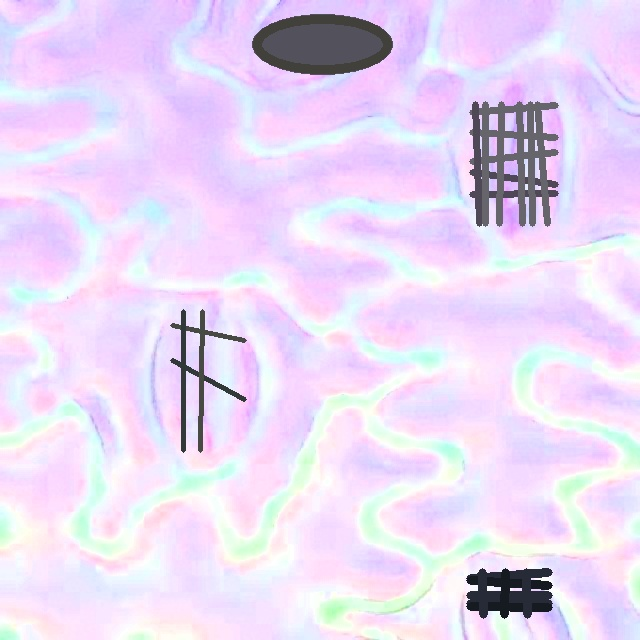close: (170, 309, 246, 452), (252, 13, 391, 74), (466, 569, 552, 617)
open: (469, 101, 558, 226)
